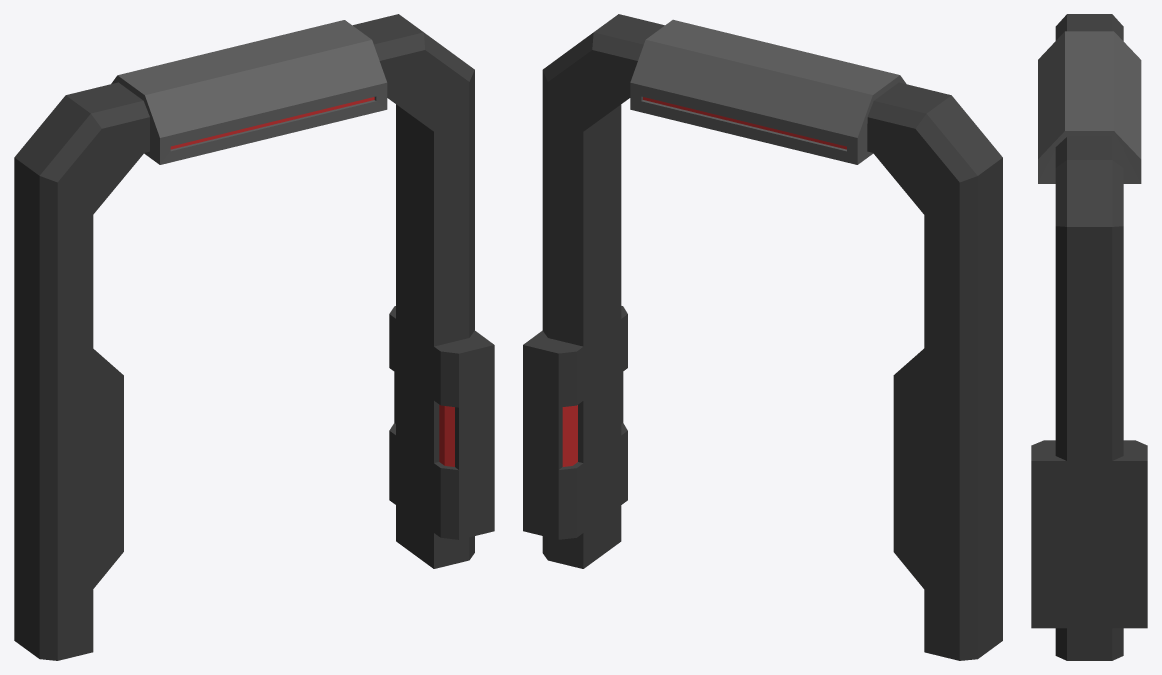
File: door_005.fbx
The picture shows the model from 3 angles, left to right: view 1: azimuth 30°, elevation 25°; view 2: azimuth 150°, elevation 25°; view 3: azimuth 270°, elevation 25°; orthographic projection. The views are drawn at different scales.
Parts seen in each view (by area): view 1: door_005; view 2: door_005; view 3: door_005.
Part boxes in pixels (box(x1,y1,x2,y2)): door_005: box(14, 14, 494, 660); door_005: box(523, 14, 1002, 660); door_005: box(1031, 14, 1147, 660).
Size of the model in its own units: 204 by 52.45 by 241.
